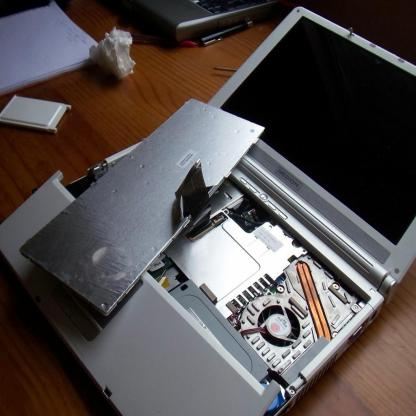board: (1, 7, 416, 415)
